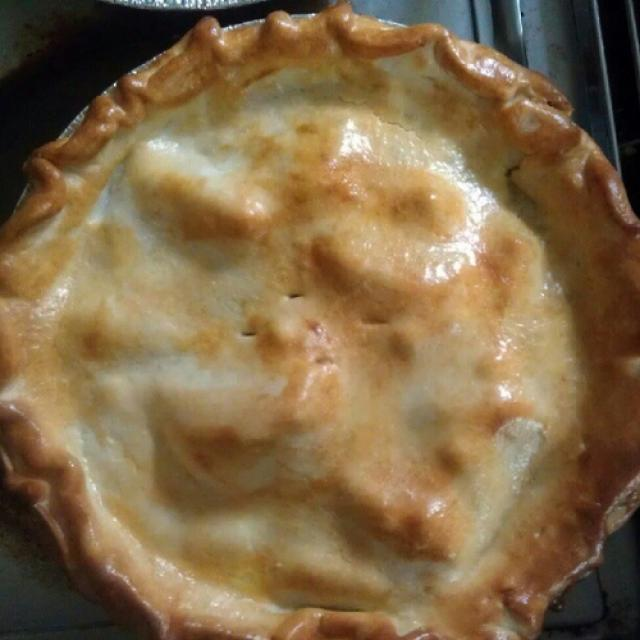炸货点心: (11, 21, 626, 624)
蛋糕甜品: (11, 21, 626, 624)
